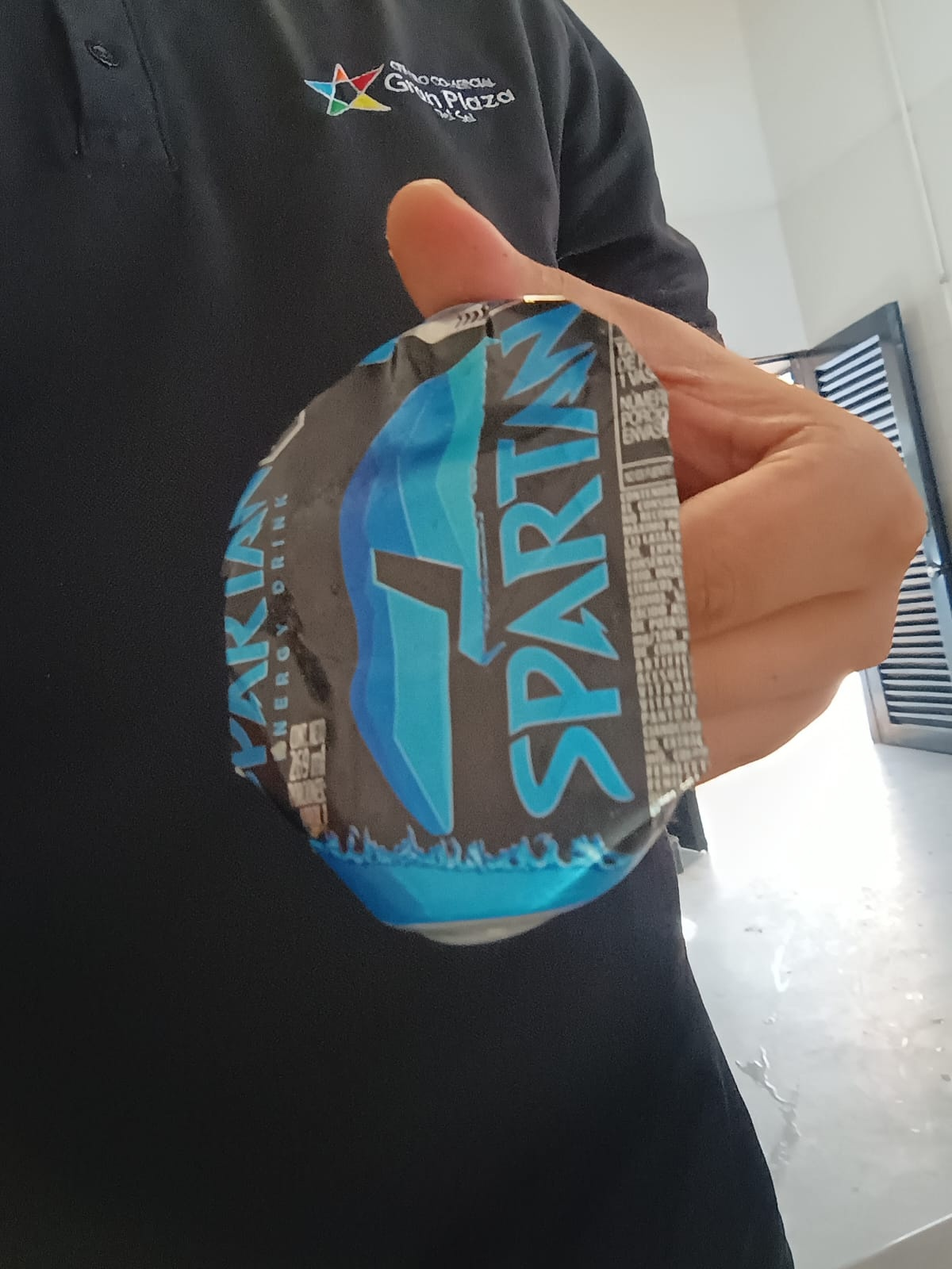Metal: (223, 297, 710, 949)
